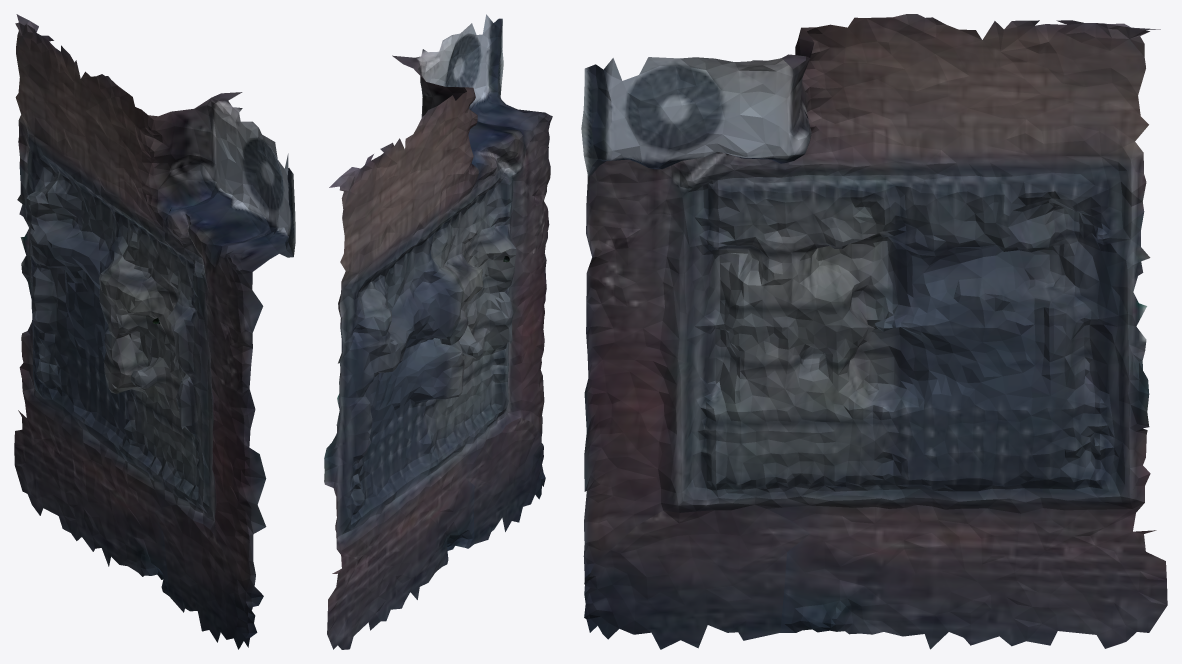
The picture shows the model from 3 angles, left to right: view 1: azimuth 30°, elevation 25°; view 2: azimuth 150°, elevation 25°; view 3: azimuth 270°, elevation 25°; orthographic projection. The views are drawn at different scales.
Parts seen in each view (by area): view 1: 3Dscan4; view 2: 3Dscan4; view 3: 3Dscan4.
Part boxes in pixels (x1,y1,x2,y2): 3Dscan4: [14, 14, 295, 649]; 3Dscan4: [324, 14, 552, 649]; 3Dscan4: [581, 14, 1167, 649].
Bounding box in the file's own units: 0.2992 × 1.29 × 1.08.
Materials: 1 (1 with a texture image).
